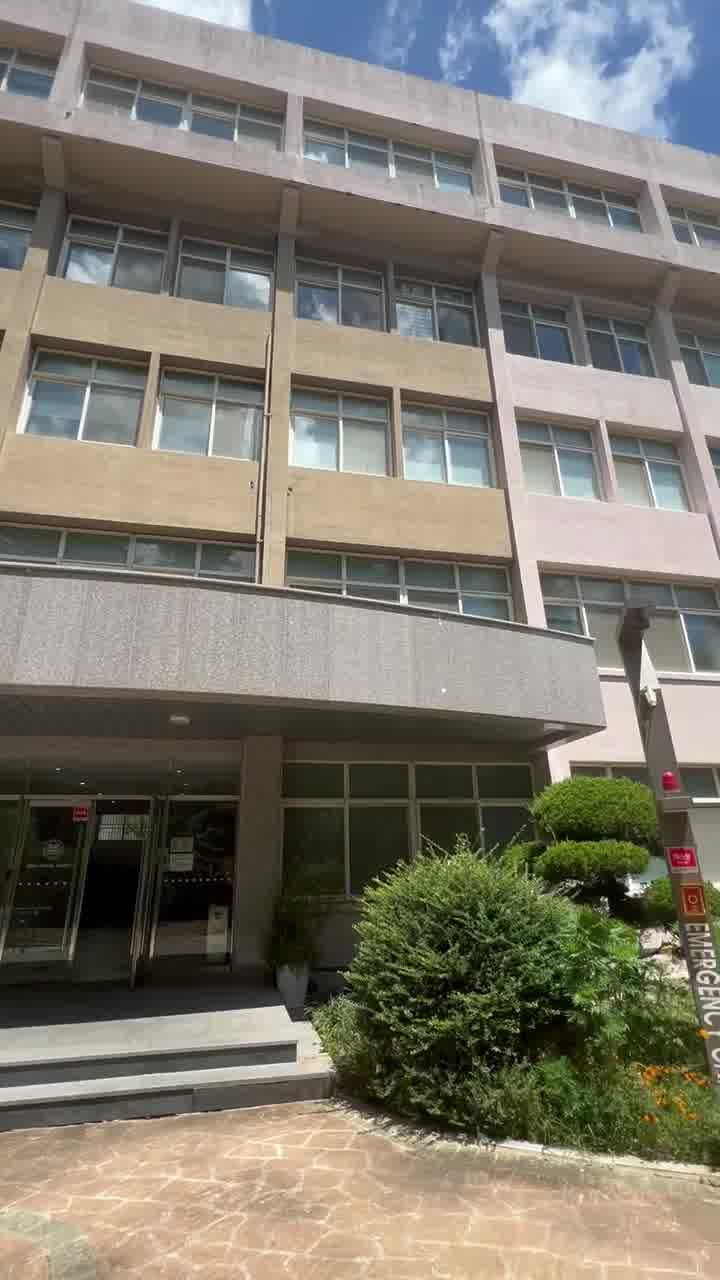building: (0, 38, 562, 808)
